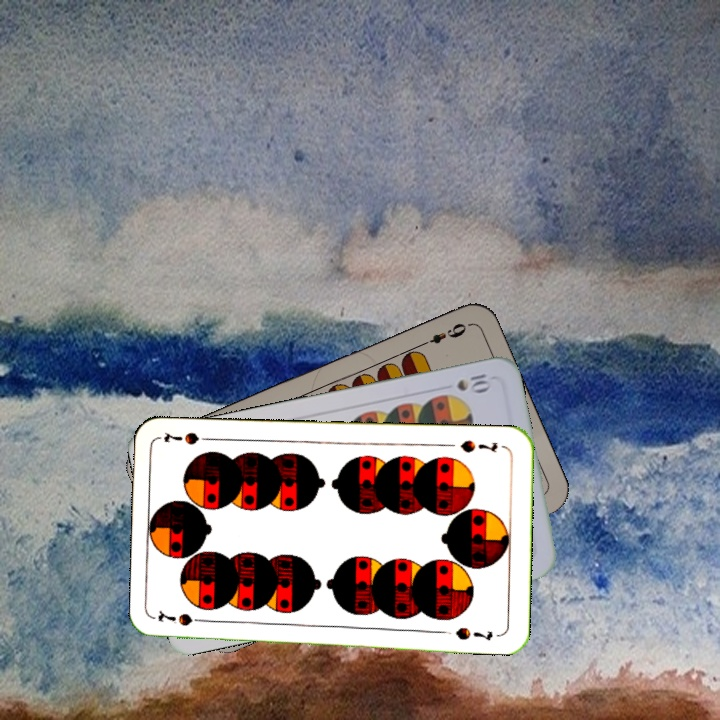E9: (415, 319, 469, 350)
S10: (453, 369, 494, 395)
S7: (154, 610, 213, 629), (457, 436, 501, 456)
